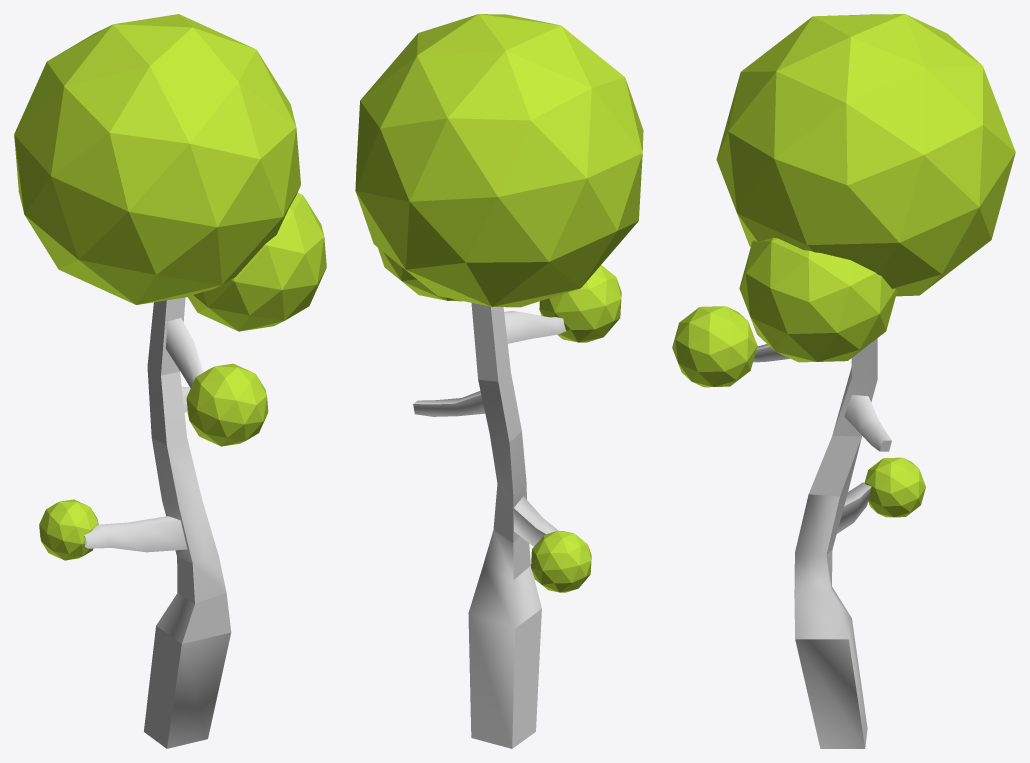
The model's file is birch.fbx.
The picture shows the model from 3 angles, left to right: view 1: azimuth 30°, elevation 25°; view 2: azimuth 150°, elevation 25°; view 3: azimuth 270°, elevation 25°; orthographic projection. The views are drawn at different scales.
Visible parts, largest first — view 1: Icosphere.004, Cube.001, Icosphere.003, Icosphere.007, Icosphere.008; view 2: Icosphere.004, Cube.001, Icosphere.007, Icosphere.008, Icosphere.003; view 3: Icosphere.004, Cube.001, Icosphere.003, Icosphere.007, Icosphere.008.
Boxes of the visible parts, bbox=[...] form: Icosphere.004: bbox=[14, 14, 300, 304]; Cube.001: bbox=[84, 297, 231, 748]; Icosphere.003: bbox=[188, 192, 326, 331]; Icosphere.007: bbox=[186, 363, 268, 446]; Icosphere.008: bbox=[39, 499, 98, 560]; Icosphere.004: bbox=[355, 14, 643, 307]; Cube.001: bbox=[413, 303, 565, 748]; Icosphere.007: bbox=[539, 265, 621, 342]; Icosphere.008: bbox=[531, 531, 591, 592]; Icosphere.003: bbox=[378, 248, 462, 301]; Icosphere.004: bbox=[716, 14, 1015, 296]; Cube.001: bbox=[753, 338, 891, 748]; Icosphere.003: bbox=[739, 237, 897, 362]; Icosphere.007: bbox=[672, 306, 757, 387]; Icosphere.008: bbox=[864, 457, 925, 517].
Bounding box in the file's own units: 488 × 1258 × 550.
